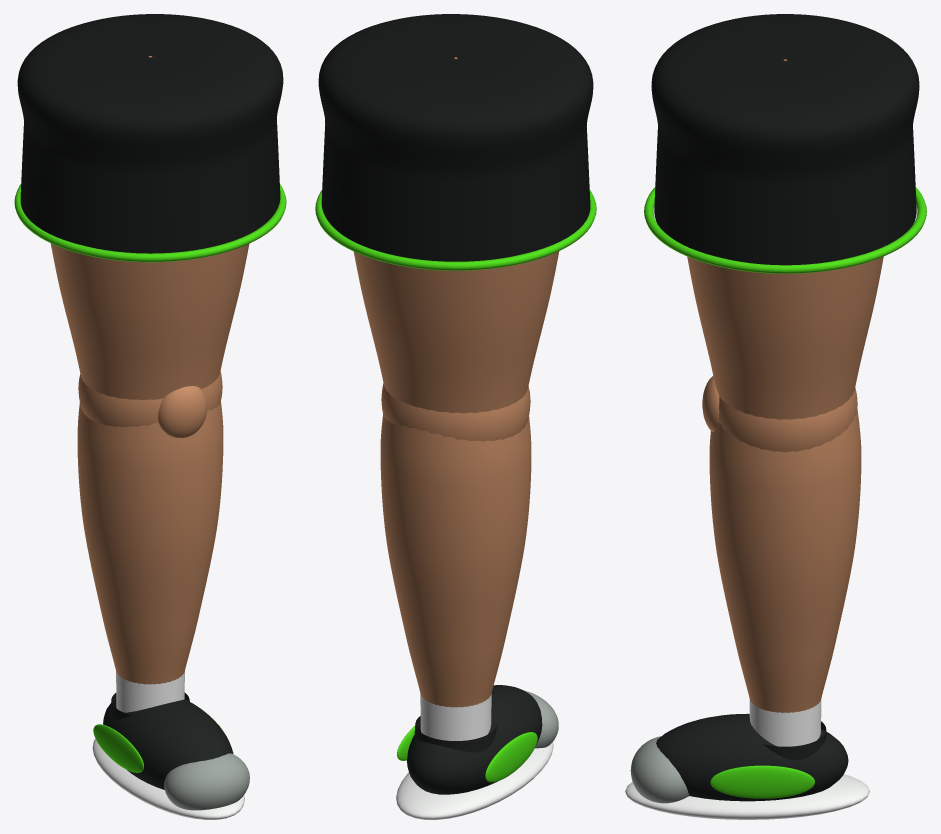
Rendered from perna-flexpro.glb.
3 renders of one model, left to right at view 1: azimuth 30°, elevation 25°; view 2: azimuth 150°, elevation 25°; view 3: azimuth 270°, elevation 25°, orthographic. The views are drawn at different scales.
Visible parts, largest first — view 1: Bermuda, Canela_pele, Coxa_pele, Tenis_corpo, Biqueira, Bermuda_vivo, Joelho_junta, Sola, Patela, Meia, Detalhe_tenis_E; view 2: Bermuda, Canela_pele, Coxa_pele, Tenis_corpo, Joelho_junta, Sola, Bermuda_vivo, Meia, Detalhe_tenis_E, Cano_tenis, Biqueira; view 3: Bermuda, Canela_pele, Coxa_pele, Tenis_corpo, Sola, Joelho_junta, Bermuda_vivo, Detalhe_tenis_D, Biqueira, Meia, Patela, Cano_tenis.
Part boxes in pixels (left/top/right/bottom): Bermuda: left=17, top=14, right=283, bottom=253; Canela_pele: left=77, top=401, right=223, bottom=684; Coxa_pele: left=50, top=56, right=249, bottom=399; Tenis_corpo: left=103, top=699, right=233, bottom=789; Biqueira: left=164, top=753, right=249, bottom=810; Bermuda_vivo: left=14, top=184, right=286, bottom=262; Joelho_junta: left=78, top=371, right=222, bottom=427; Sola: left=92, top=739, right=244, bottom=819; Patela: left=158, top=386, right=207, bottom=437; Meia: left=116, top=671, right=184, bottom=712; Detalhe_tenis_E: left=93, top=724, right=143, bottom=772; Bermuda: left=318, top=14, right=593, bottom=261; Canela_pele: left=380, top=414, right=531, bottom=707; Coxa_pele: left=353, top=57, right=559, bottom=413; Tenis_corpo: left=407, top=685, right=542, bottom=794; Joelho_junta: left=381, top=383, right=530, bottom=441; Sola: left=396, top=742, right=553, bottom=819; Bermuda_vivo: left=315, top=190, right=596, bottom=270; Meia: left=420, top=694, right=491, bottom=740; Detalhe_tenis_E: left=485, top=732, right=537, bottom=782; Cano_tenis: left=414, top=716, right=496, bottom=752; Biqueira: left=524, top=690, right=558, bottom=748; Bermuda: left=651, top=14, right=919, bottom=265; Canela_pele: left=709, top=409, right=861, bottom=712; Coxa_pele: left=687, top=59, right=883, bottom=419; Tenis_corpo: left=656, top=713, right=848, bottom=801; Sola: left=625, top=774, right=869, bottom=819; Joelho_junta: left=719, top=387, right=857, bottom=452; Bermuda_vivo: left=644, top=187, right=926, bottom=273; Detalhe_tenis_D: left=710, top=765, right=814, bottom=798; Biqueira: left=630, top=736, right=689, bottom=803; Meia: left=749, top=699, right=821, bottom=746; Patela: left=702, top=376, right=719, bottom=431; Cano_tenis: left=763, top=721, right=826, bottom=760.
Bounding box in the file's own units: 1.49 × 4.33 × 1.59.
